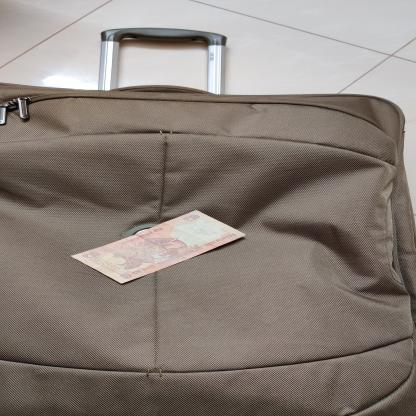Old10Back: (70, 210, 245, 284)
